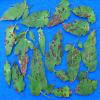Tomato Early blight leaf: (29, 40, 49, 96), (45, 30, 64, 73), (82, 28, 98, 73), (45, 1, 71, 28), (64, 44, 81, 85), (1, 2, 30, 22), (61, 19, 90, 37), (11, 59, 25, 95), (22, 12, 51, 28), (71, 5, 96, 23), (75, 76, 98, 95), (5, 22, 17, 58), (3, 59, 13, 92), (50, 86, 75, 99), (37, 28, 46, 56), (27, 29, 36, 44), (78, 70, 87, 81)
